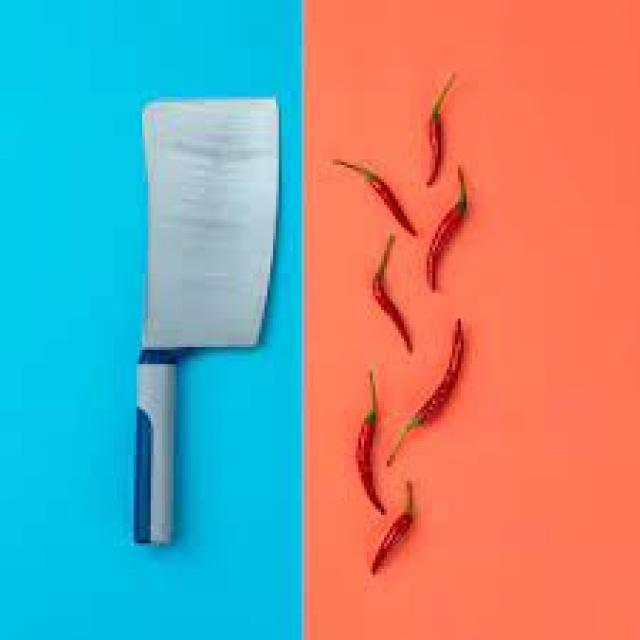Knife: (108, 73, 296, 564)
